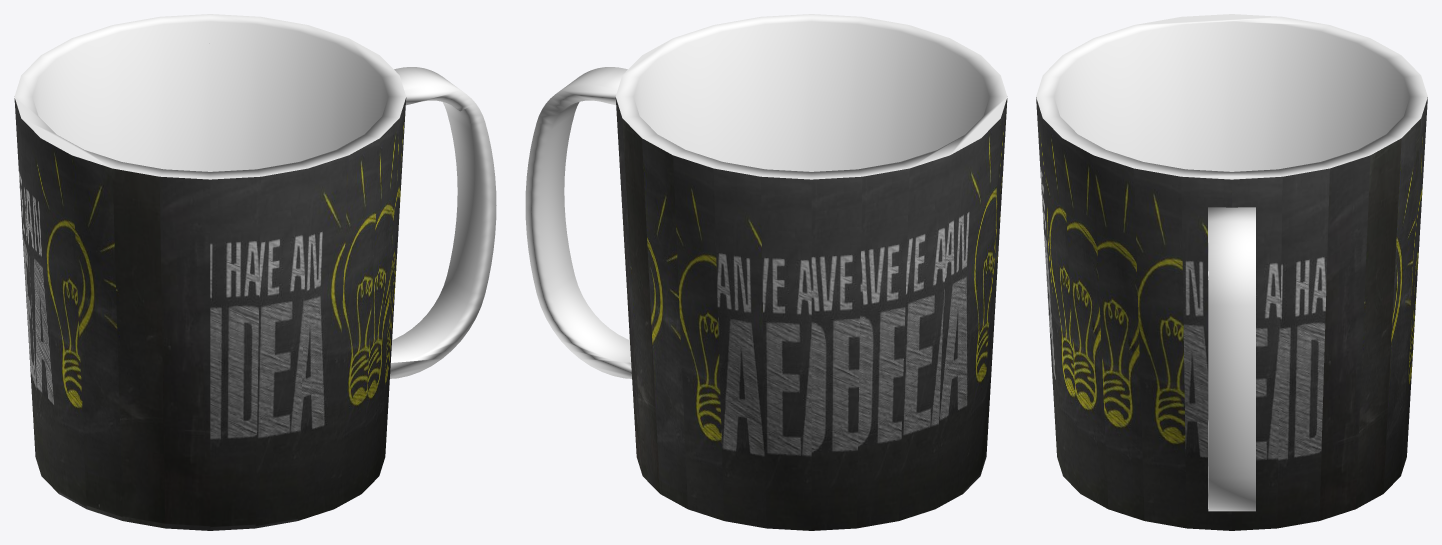
The picture shows the model from 3 angles, left to right: view 1: azimuth 30°, elevation 25°; view 2: azimuth 150°, elevation 25°; view 3: azimuth 270°, elevation 25°; orthographic projection.
Visible parts, largest first — view 1: mesh1-geometry-0, mesh1-geometry-1, mesh2-geometry-0; view 2: mesh1-geometry-0, mesh1-geometry-1, mesh2-geometry-0; view 3: mesh1-geometry-0, mesh1-geometry-1, mesh2-geometry-0.
Part boxes in pixels (x1,y1,x2,y2): mesh1-geometry-0: (14,97,406,530); mesh1-geometry-1: (14,14,406,179); mesh2-geometry-0: (390,67,496,378); mesh1-geometry-0: (615,97,1007,530); mesh1-geometry-1: (615,14,1007,179); mesh2-geometry-0: (525,67,631,378); mesh1-geometry-0: (1036,97,1427,530); mesh1-geometry-1: (1036,14,1427,179); mesh2-geometry-0: (1208,207,1255,511).
Bounding box in the file's own units: 0.6763 × 0.5246 × 0.5171.
Materials: 4 (1 with a texture image).
